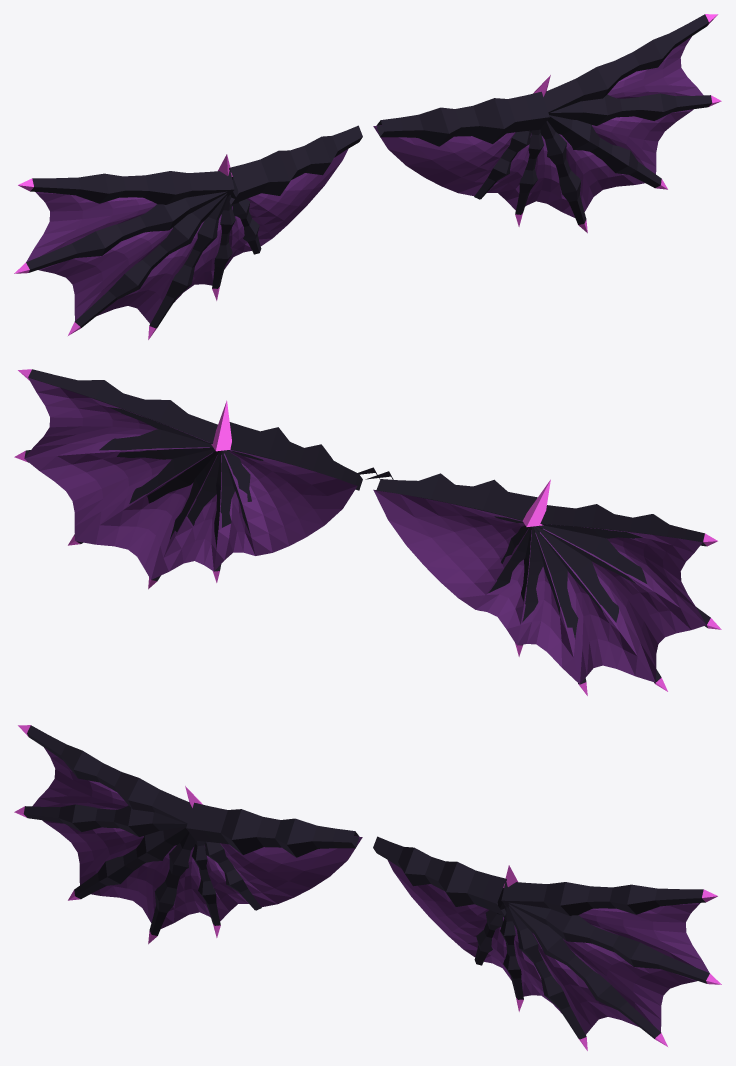
Rendered from ender_dragon_wings.obj.
3 renders of one model, top to bottom at view 1: azimuth 30°, elevation 25°; view 2: azimuth 150°, elevation 25°; view 3: azimuth 330°, elevation 25°, orthographic.
Parts seen in each view (by area): view 1: LeftWing, RightWing; view 2: RightWing, LeftWing; view 3: RightWing, LeftWing.
Part boxes in pixels (x1,y1,x2,y2): LeftWing: (14,125,362,339); RightWing: (373,14,721,233); RightWing: (14,369,380,589); LeftWing: (365,471,721,695); RightWing: (373,836,721,1050); LeftWing: (14,725,362,944).
Bounding box in the file's own units: 3.22 × 0.8311 × 0.2596.
